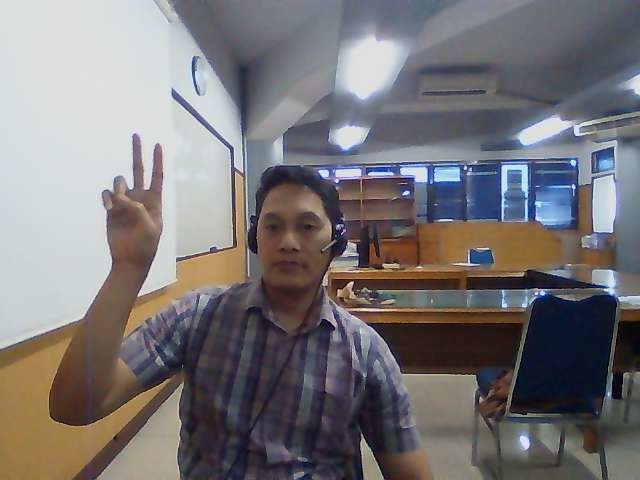Peace: (100, 131, 167, 266)
